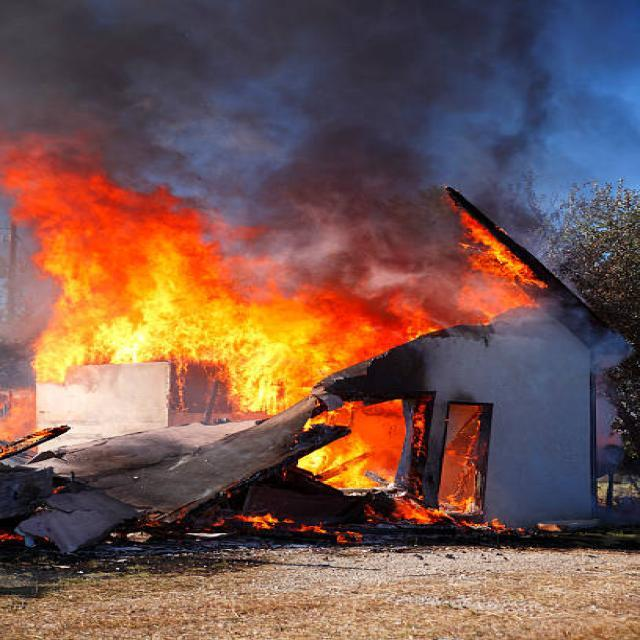Fire: (0, 134, 354, 458), (365, 202, 565, 364), (314, 403, 432, 493)
Smoke: (4, 0, 594, 290), (475, 327, 596, 495)
